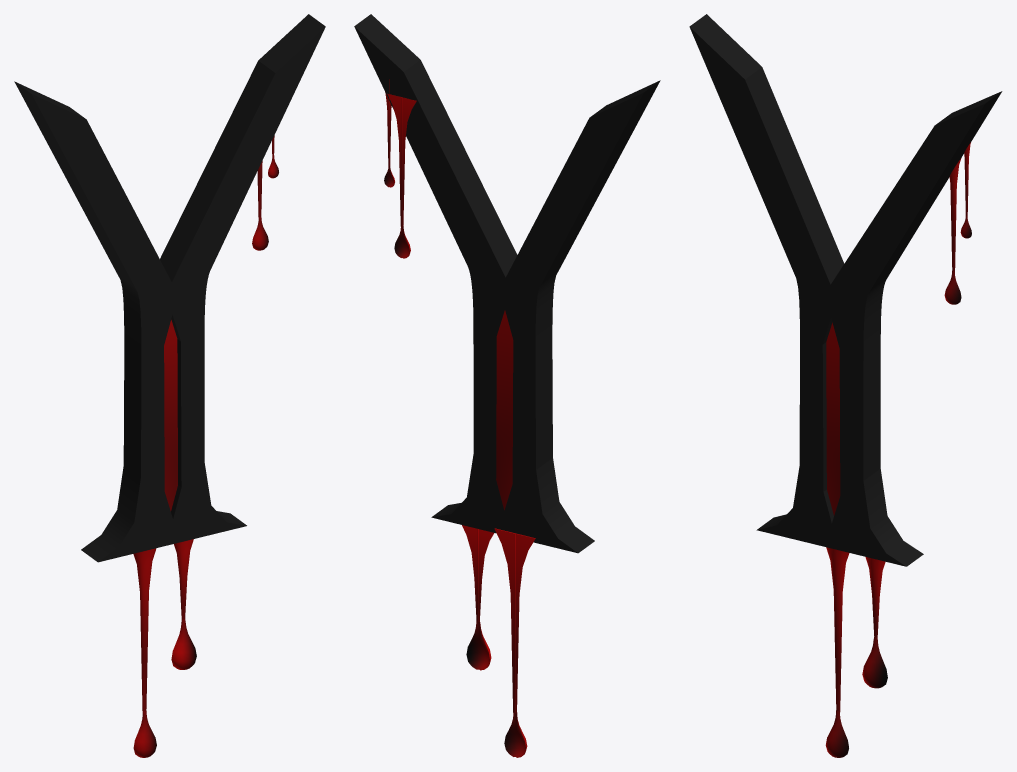
The picture shows the model from 3 angles, left to right: view 1: azimuth 30°, elevation 25°; view 2: azimuth 150°, elevation 25°; view 3: azimuth 330°, elevation 25°; orthographic projection. The views are drawn at different scales.
Visible parts, largest first — view 1: Y, Y_Element, Blood_422, Blood_414, Blood_413; view 2: Y, Y_Element, Blood_422, Blood_414, Blood_413; view 3: Y, Y_Element, Blood_422, Blood_414, Blood_413.
Boxes of the visible parts, <box> form: Y: <box>14,14,325,562</box>; Y_Element: <box>164,320,177,511</box>; Blood_422: <box>133,548,156,757</box>; Blood_414: <box>171,539,196,669</box>; Blood_413: <box>252,161,268,250</box>; Y: <box>354,14,660,553</box>; Y_Element: <box>496,310,513,510</box>; Blood_422: <box>494,528,535,757</box>; Blood_414: <box>462,525,494,670</box>; Blood_413: <box>387,93,416,258</box>; Y: <box>689,14,1002,566</box>; Y_Element: <box>826,322,840,515</box>; Blood_422: <box>825,547,849,757</box>; Blood_414: <box>862,557,887,688</box>; Blood_413: <box>944,158,961,304</box>.
Size of the model in its own units: 49.47 by 114 by 5.16.
2 materials, 1 textured.
